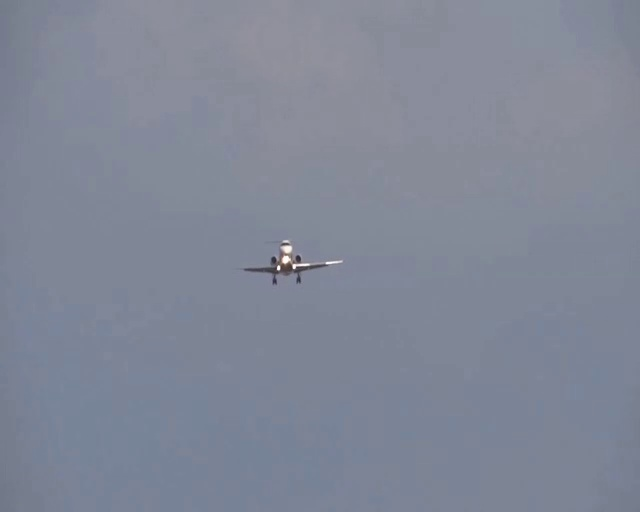AIRPLANE: (237, 239, 343, 285)
